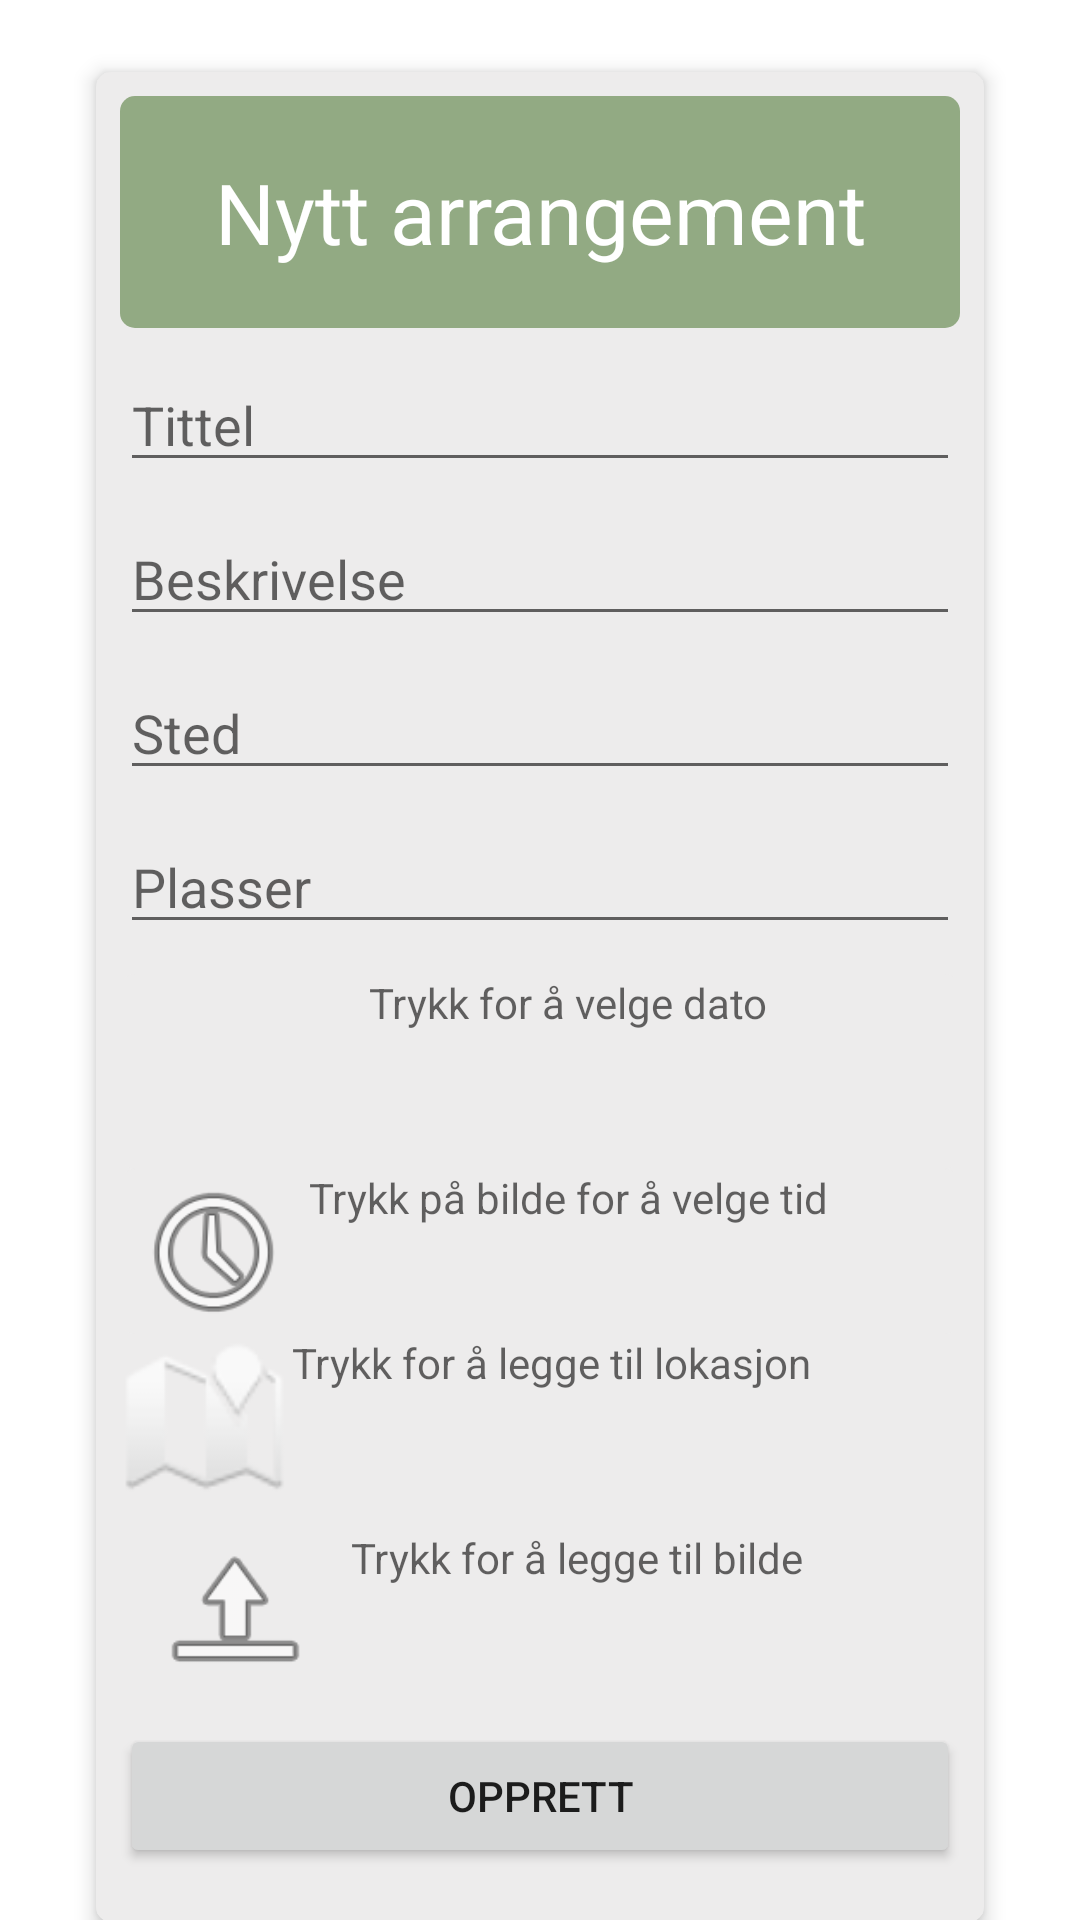

Icon click points for this 1080w x 1920h phone screenshot, format [x,y]:
map: [204,1426]
recent history: [214,1252]
